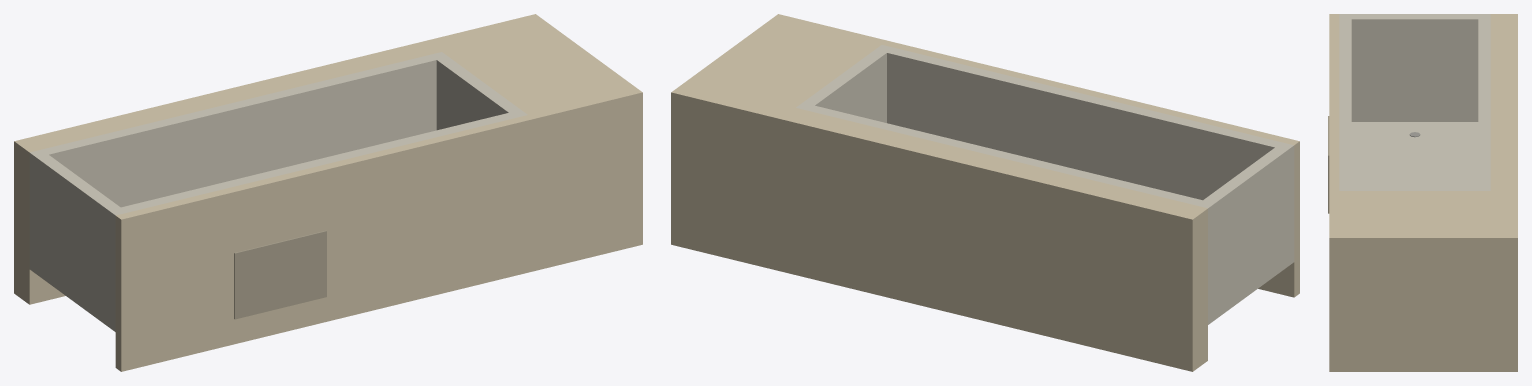
The model's file is bathtub-alcove-r.glb.
3 renders of one model, left to right at view 1: azimuth 30°, elevation 25°; view 2: azimuth 150°, elevation 25°; view 3: azimuth 270°, elevation 25°, orthographic. The views are drawn at different scales.
Parts seen in each view (by area): view 1: tile, enamel, plastic-light; view 2: tile, enamel; view 3: tile, enamel, plastic-light.
Part boxes in pixels (left/top/right/bottom): tile: left=14, top=14, right=642, bottom=371; enamel: left=29, top=52, right=527, bottom=331; plastic-light: left=234, top=230, right=326, bottom=319; tile: left=671, top=14, right=1299, bottom=371; enamel: left=796, top=45, right=1294, bottom=324; tile: left=1329, top=14, right=1517, bottom=371; enamel: left=1339, top=14, right=1490, bottom=190; plastic-light: left=1328, top=116, right=1329, bottom=213.
Bounding box in the file's own units: 2.15 × 0.6 × 0.77.
